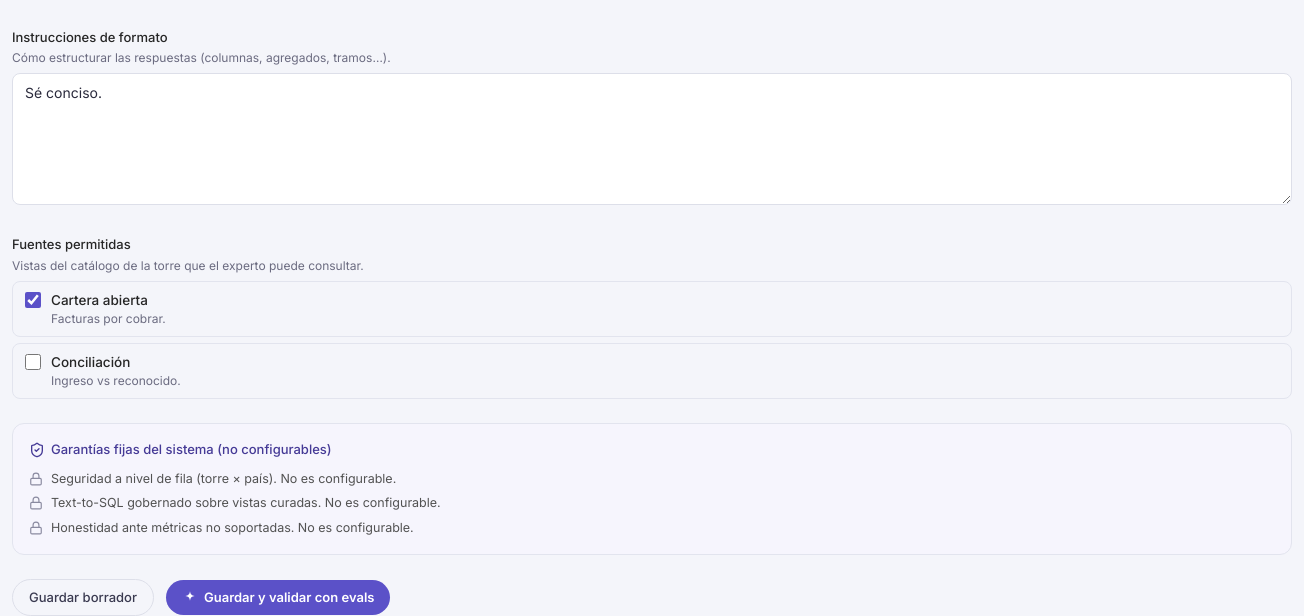
Test: ExpertoConfig › guardar borrador usa PUT y no activa
The image size is (1304, 616).
(page scrolled)
Click the button "Guardar borrador" at {"x": 83, "y": 598}, box [12,579,154,615]
(page scrolled)
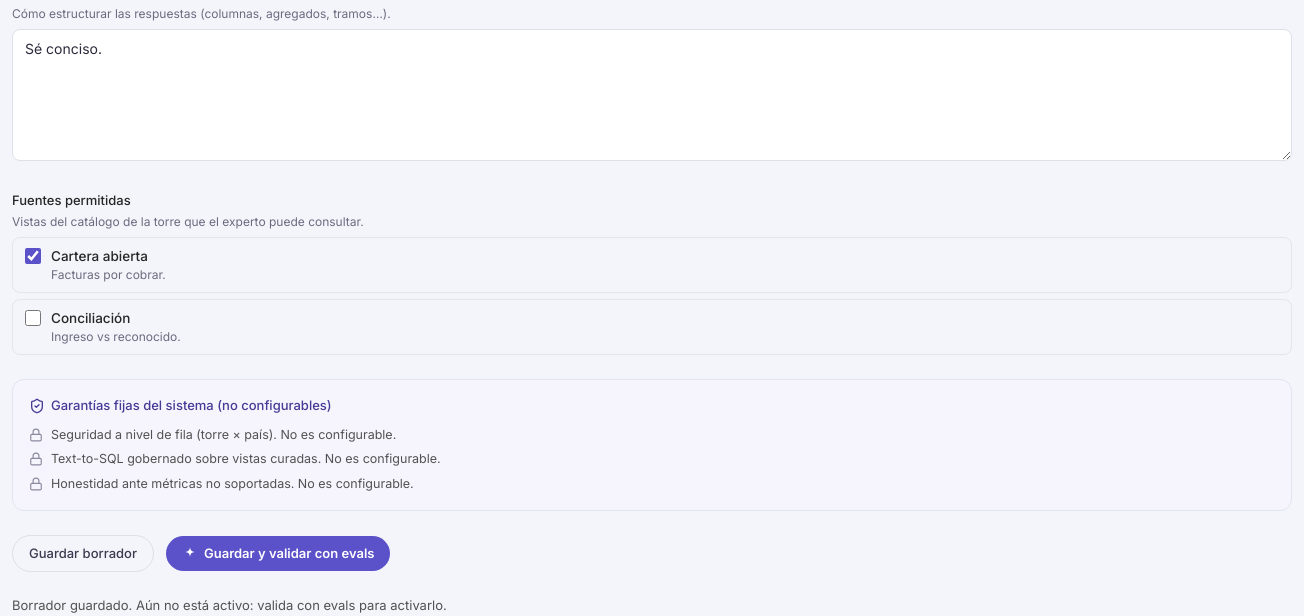
Now the text "Aún no está activo" is shown, box [12,597,447,613]
